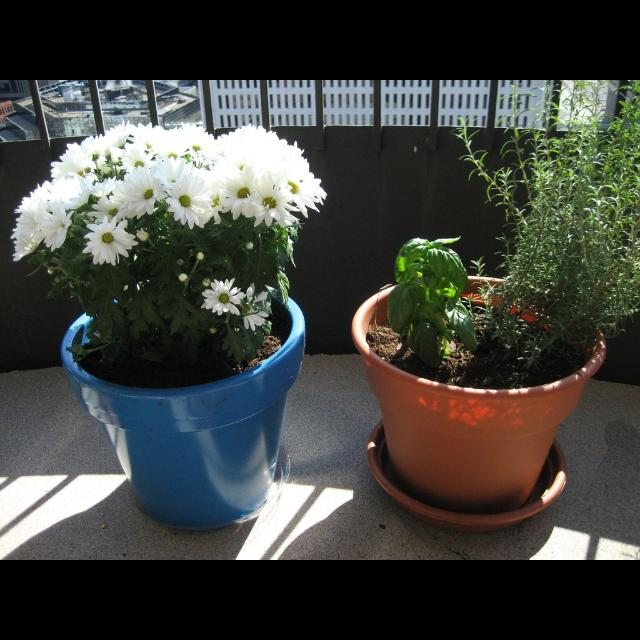Flower: (12, 122, 326, 328)
